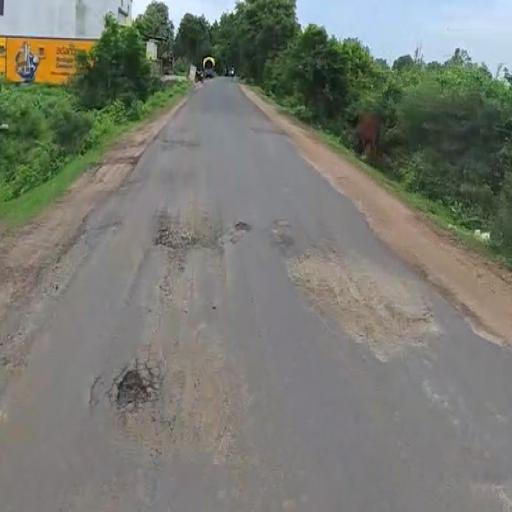alligator_crack: (66, 306, 247, 475)
edge_damage: (5, 194, 131, 339)
ravelling: (283, 204, 431, 392), (138, 167, 264, 284)
